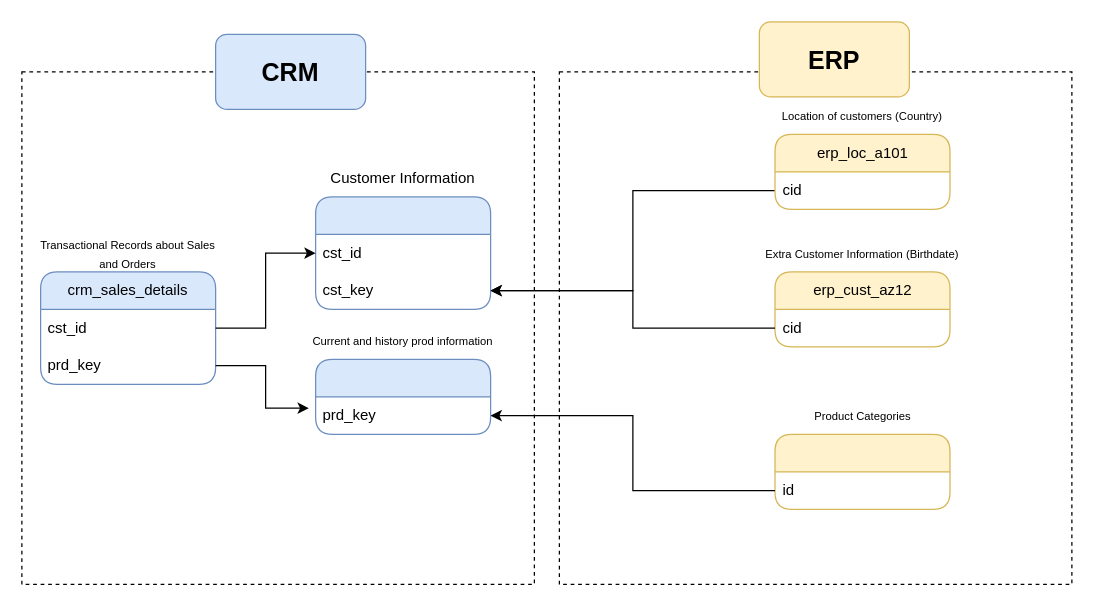
Image size: 1094x606. Some labels were removed from this diagram. The box of each missing label's shape, as (x1, y1, x2, y2) in pixels:
crm_cst_info: (314, 196, 491, 309)
crm_prd_info: (314, 358, 491, 434)
erp_px_cat_g1v2: (774, 433, 950, 509)
